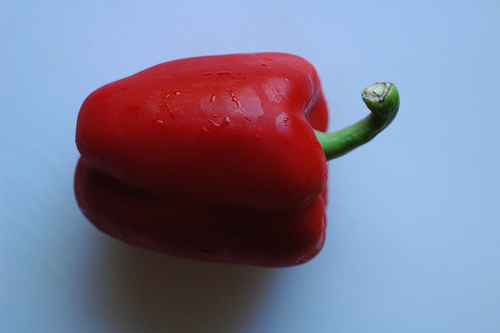capsicum: (72, 51, 401, 269)
